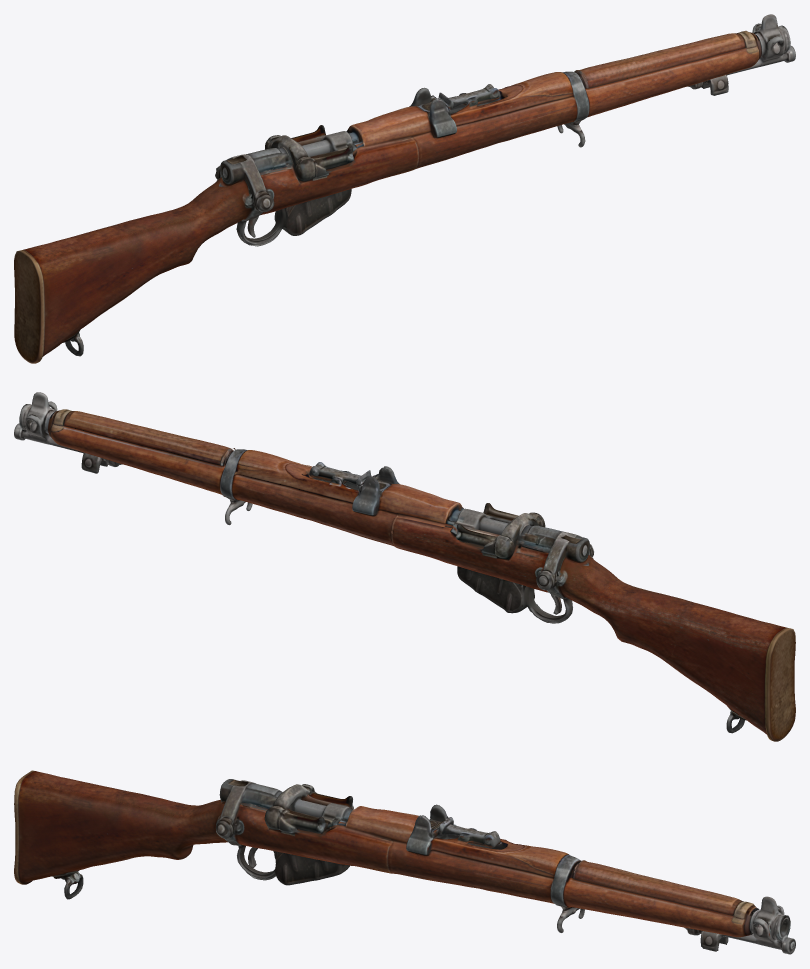
The model's file is smle_tripo_model2_body.glb.
3 renders of one model, top to bottom at view 1: azimuth 30°, elevation 25°; view 2: azimuth 150°, elevation 25°; view 3: azimuth 330°, elevation 25°, orthographic.
Parts seen in each view (by area): view 1: tripo_node_5df0a58c-a0f4-4050-b1ad-47c5679fac05; view 2: tripo_node_5df0a58c-a0f4-4050-b1ad-47c5679fac05; view 3: tripo_node_5df0a58c-a0f4-4050-b1ad-47c5679fac05.
Part boxes in pixels (left/top/right/bottom): tripo_node_5df0a58c-a0f4-4050-b1ad-47c5679fac05: left=14, top=14, right=795, bottom=363; tripo_node_5df0a58c-a0f4-4050-b1ad-47c5679fac05: left=14, top=392, right=795, bottom=741; tripo_node_5df0a58c-a0f4-4050-b1ad-47c5679fac05: left=14, top=770, right=795, bottom=954.
Size of the model in its own units: 0.9804 by 0.2107 by 0.1047.
1 material, 1 textured.
